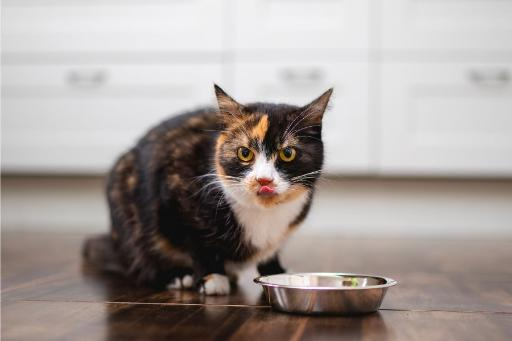cat_eating: (84, 85, 397, 313)
